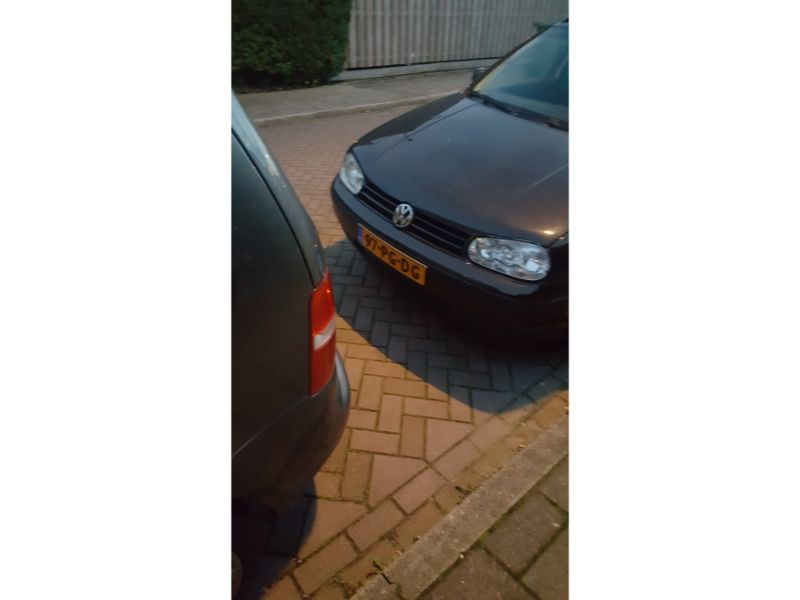kenteken: (345, 219, 433, 287)
